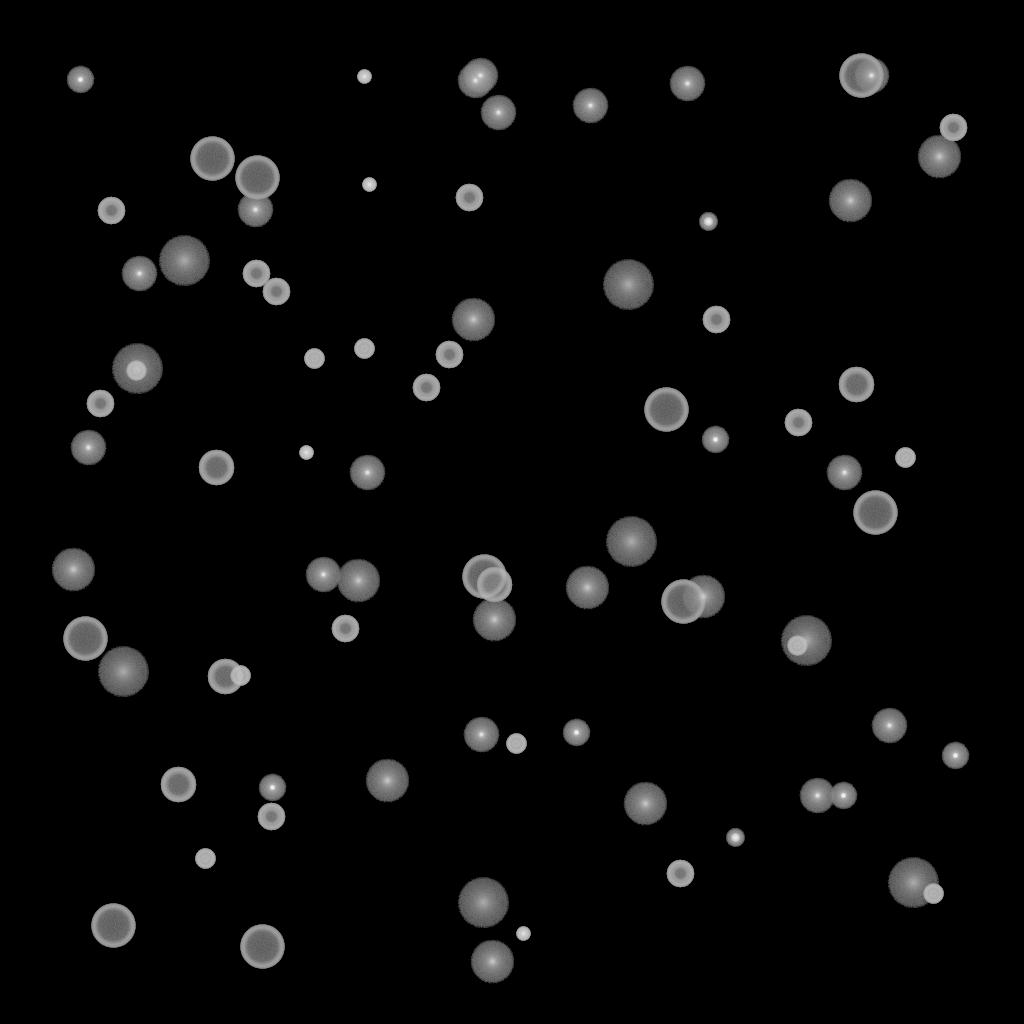depth:-10: (941, 742, 969, 770), (562, 719, 590, 747), (66, 66, 94, 94), (701, 426, 729, 454), (829, 782, 857, 810), (258, 774, 286, 802)
depth:-20: (699, 213, 717, 231), (726, 829, 744, 847)
depth:-30: (362, 178, 376, 192), (516, 927, 530, 941), (299, 446, 313, 460), (357, 70, 371, 84)
depth:-40: (304, 349, 324, 369), (923, 884, 943, 904), (895, 448, 915, 468), (787, 636, 807, 656), (126, 361, 146, 381), (506, 734, 526, 754), (230, 666, 250, 686), (354, 339, 374, 359), (195, 849, 215, 869)
depth:-50: (702, 306, 730, 334), (939, 114, 967, 142), (242, 260, 270, 288), (784, 409, 812, 437), (331, 615, 359, 643), (412, 374, 440, 402), (257, 803, 285, 831), (455, 184, 483, 212), (86, 390, 114, 418), (435, 341, 463, 369), (666, 860, 694, 888), (97, 197, 125, 225), (262, 278, 290, 306)
depth:-60: (838, 367, 874, 403), (207, 659, 243, 695), (476, 567, 512, 603), (160, 767, 196, 803), (198, 450, 234, 486)
depth:-70: (240, 925, 284, 969), (462, 555, 506, 599), (661, 580, 705, 624), (63, 617, 107, 661), (190, 137, 234, 181), (644, 388, 688, 432), (839, 54, 883, 98), (853, 491, 897, 535), (91, 904, 135, 948), (235, 156, 279, 200)
depth:0: (457, 63, 493, 99), (70, 430, 106, 466), (462, 58, 498, 94), (572, 88, 608, 124), (121, 256, 157, 292), (669, 66, 705, 102), (480, 95, 516, 131), (305, 557, 341, 593), (237, 192, 273, 228), (463, 717, 499, 753), (853, 58, 889, 94), (799, 778, 835, 814), (826, 455, 862, 491), (349, 455, 385, 491), (871, 708, 907, 744)
depth:10: (336, 559, 380, 603), (365, 759, 409, 803), (565, 566, 609, 610), (51, 548, 95, 592), (828, 179, 872, 223), (917, 135, 961, 179), (472, 598, 516, 642), (451, 298, 495, 342), (623, 782, 667, 826), (470, 940, 514, 984), (681, 575, 725, 619)
depth:20: (605, 517, 657, 567), (602, 260, 654, 310), (887, 858, 939, 908), (457, 878, 509, 928), (111, 344, 163, 394), (780, 616, 832, 666), (97, 647, 149, 697), (158, 236, 210, 286)
